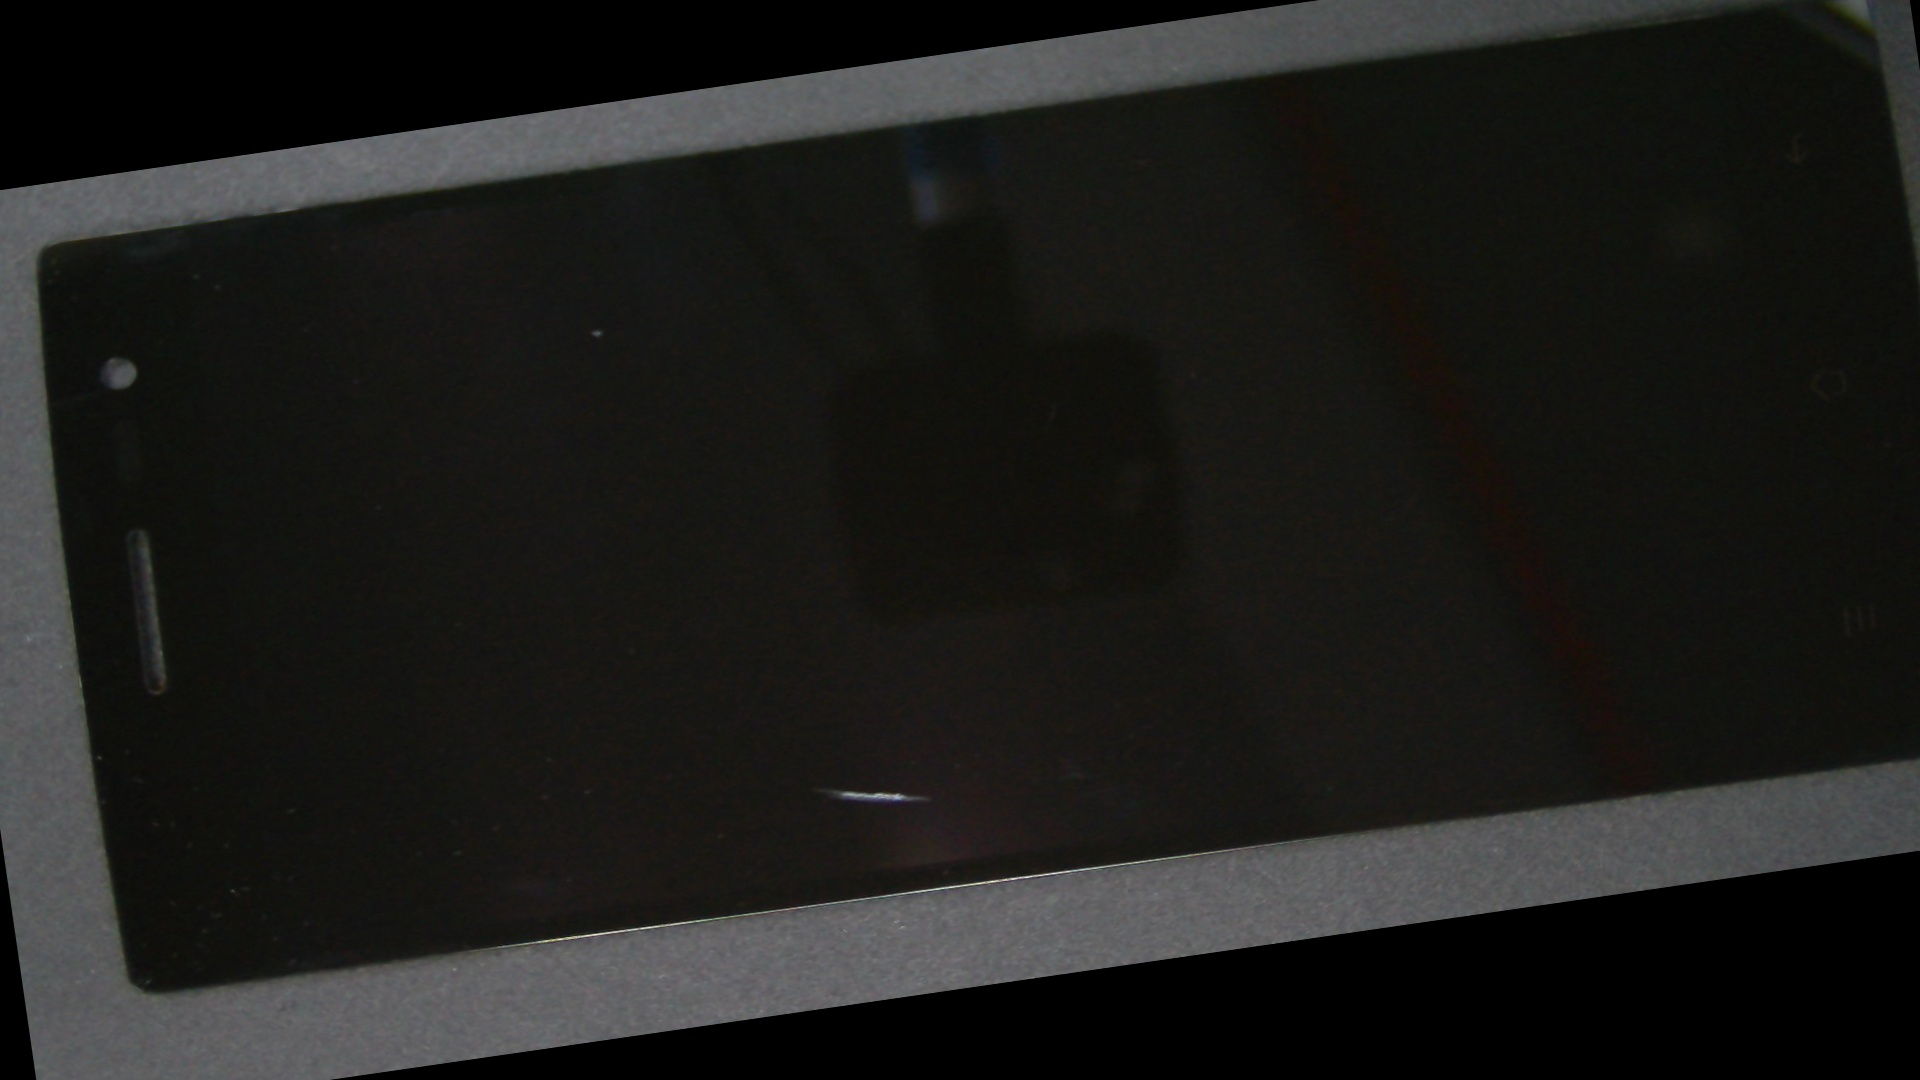oil: (362, 379, 1249, 1063)
